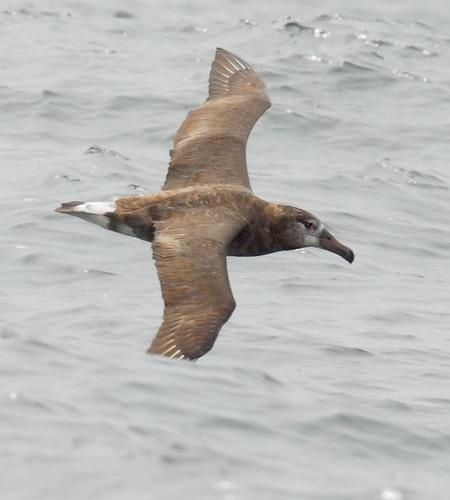bird: (53, 42, 360, 368)
